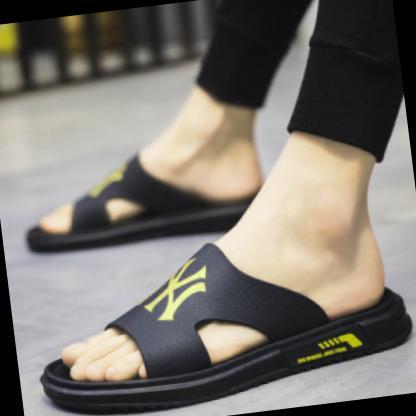no_safety-shoe: (27, 231, 415, 415), (18, 116, 278, 257)
